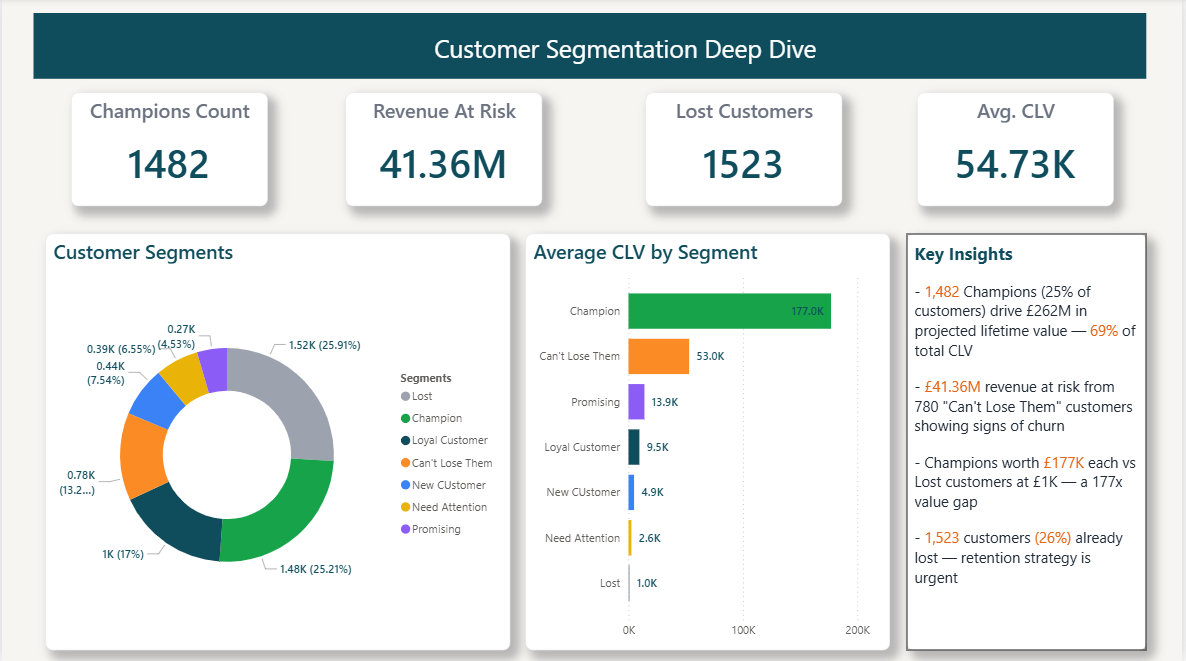

The page's visual inventory and layout, read from the dashboard file:
{"tool":"powerbi","page":{"name":"Customer Segmentation ","canvas":[1280,720],"ordinal":1},"visuals":[{"type":"shape","box":[34.2,16.3,1206.9,71.6],"z":0},{"type":"textbox","box":[268.4,30.9,814.9,56.9],"z":1000},{"type":"card","title":"Champions Count","fields":{"Values":["customer_clv.Champions Count"]},"box":[74.8,102.5,213.1,123.6],"z":2000},{"type":"card","title":"Revenue At Risk","fields":{"Values":["customer_clv.Revenue At Risk"]},"box":[372.5,102.5,213.1,123.6],"z":3000},{"type":"card","title":"Lost Customers","fields":{"Values":["customer_clv.Lost Customers"]},"box":[697.8,102.5,213.1,123.6],"z":4000},{"type":"card","title":"Avg. CLV","fields":{"Values":["customer_clv.Avg CLV"]},"box":[992.2,102.5,213.1,123.6],"z":5000},{"type":"donutChart","title":"Customer Segments","fields":{"Category":["customer_clv.Segments"],"Y":["CountNonNull(customer_clv.Customer ID)"]},"box":[47.2,255.4,504.2,452.2],"z":6000},{"type":"clusteredBarChart","title":"Average CLV by Segment","fields":{"Category":["customer_clv.Segments"],"Y":["Avg(customer_clv.CLV)"]},"box":[567.7,255.4,395.3,452.2],"z":7000},{"type":"textbox","box":[980.8,255.4,260.2,452.2],"z":8000}]}

Visuals, with their boxes in screenshot pixels (x1, y1, x2, y2), scaled from the page's 1280x720 canvas onto the 1186x661 screenshot:
shape: x1=32 y1=15 x2=1150 y2=81
textbox: x1=249 y1=28 x2=1004 y2=81
"Champions Count" card: x1=69 y1=94 x2=267 y2=208
"Revenue At Risk" card: x1=345 y1=94 x2=543 y2=208
"Lost Customers" card: x1=647 y1=94 x2=844 y2=208
"Avg. CLV" card: x1=919 y1=94 x2=1117 y2=208
"Customer Segments" donutChart: x1=44 y1=234 x2=511 y2=650
"Average CLV by Segment" clusteredBarChart: x1=526 y1=234 x2=892 y2=650
textbox: x1=909 y1=234 x2=1150 y2=650
